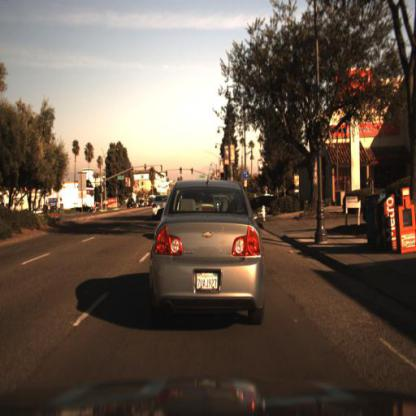car: (149, 182, 267, 329), (151, 189, 169, 225), (76, 202, 94, 216)
